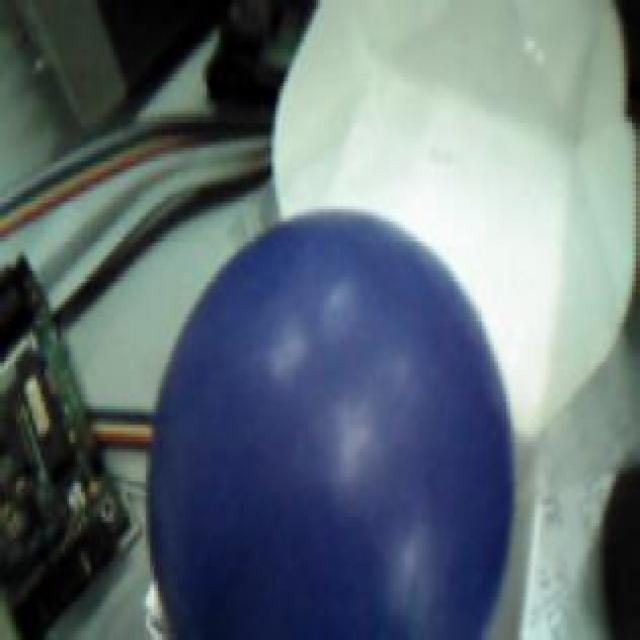BallPurple: (148, 209, 516, 640)
